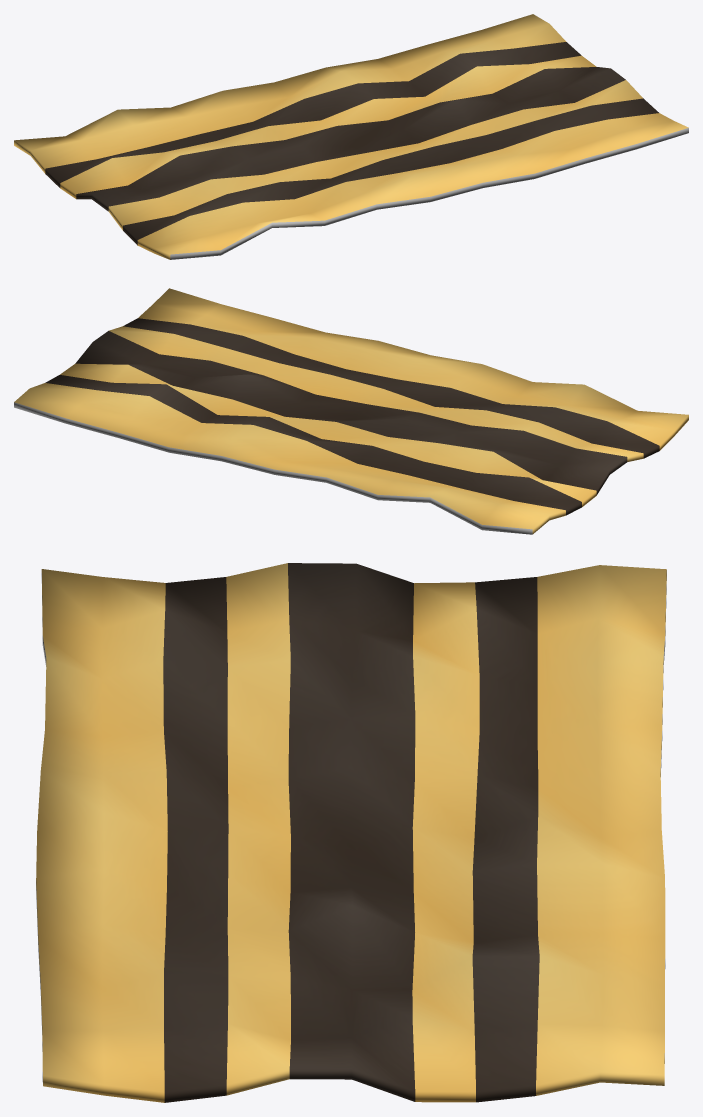
File: toalla3.fbx
3 renders of one model, top to bottom at view 1: azimuth 30°, elevation 25°; view 2: azimuth 150°, elevation 25°; view 3: azimuth 270°, elevation 25°, orthographic. The views are drawn at different scales.
Visible parts, largest first — view 1: toalla3; view 2: toalla3; view 3: toalla3.
Part boxes in pixels (bbox=[...]): toalla3: bbox=[14, 14, 688, 259]; toalla3: bbox=[14, 288, 688, 534]; toalla3: bbox=[36, 563, 666, 1102].
Size of the model in its own units: 198 by 8.07 by 104.
1 material, 1 textured.
